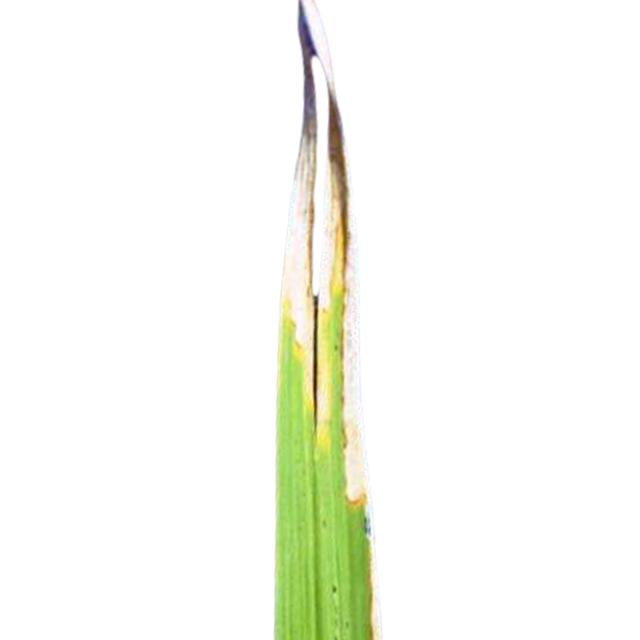Leaf scald: (238, 0, 474, 640)
